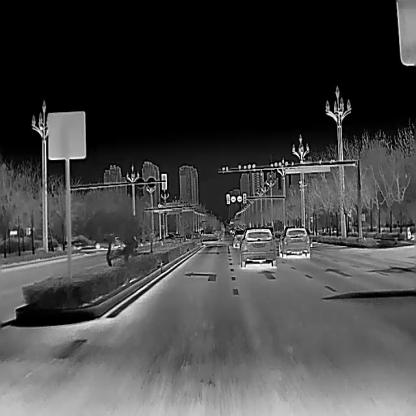car: (239, 228, 276, 266), (278, 226, 310, 256), (94, 235, 122, 249), (232, 229, 252, 248)
